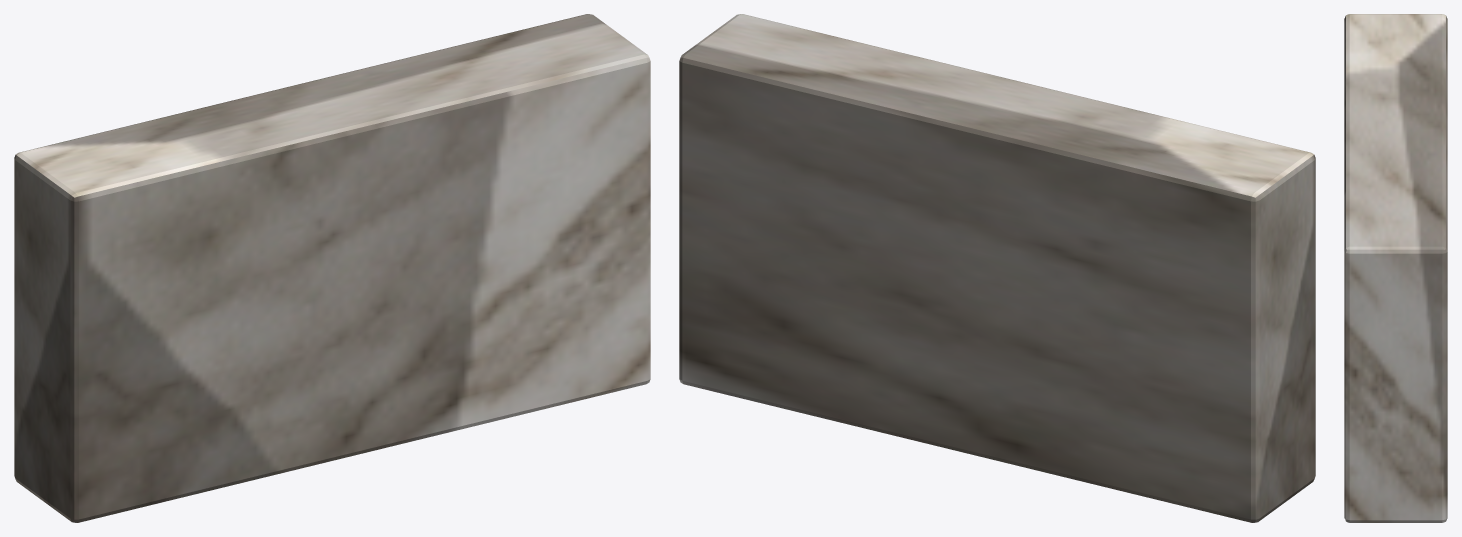
File: balustrade_vault_straight_2m_LOD2.glb
3 views of the same model, side by side, from view 1: azimuth 30°, elevation 25°; view 2: azimuth 150°, elevation 25°; view 3: azimuth 270°, elevation 25° (orthographic). The views are drawn at different scales.
Visible parts, largest first — view 1: LOD2_Barrier; view 2: LOD2_Barrier; view 3: LOD2_Barrier.
Boxes of the visible parts, x1,y1,x2,y2 form: LOD2_Barrier: [14, 14, 650, 522]; LOD2_Barrier: [679, 14, 1315, 522]; LOD2_Barrier: [1344, 14, 1447, 522].
Size of the model in its own units: 2.06 by 1.12 by 0.38.
1 material, 1 textured.
